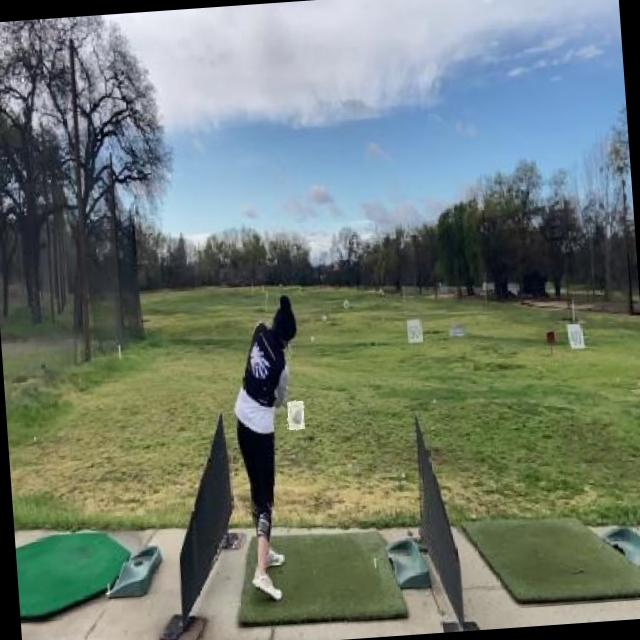club head: (286, 400, 304, 430)
